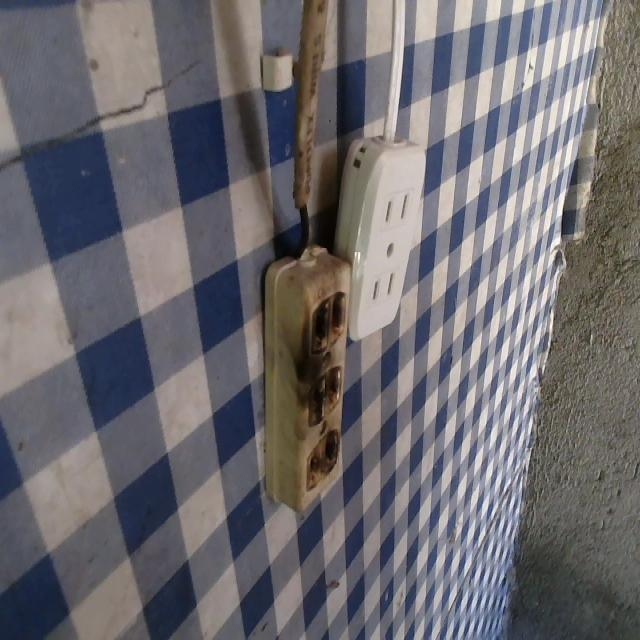-: (309, 286, 352, 354), (300, 427, 344, 493), (307, 367, 349, 420)
